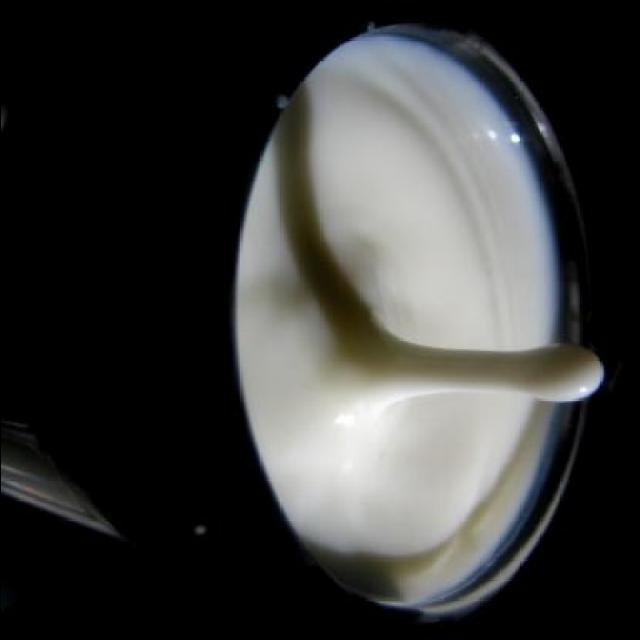Milk: (230, 36, 604, 607)
